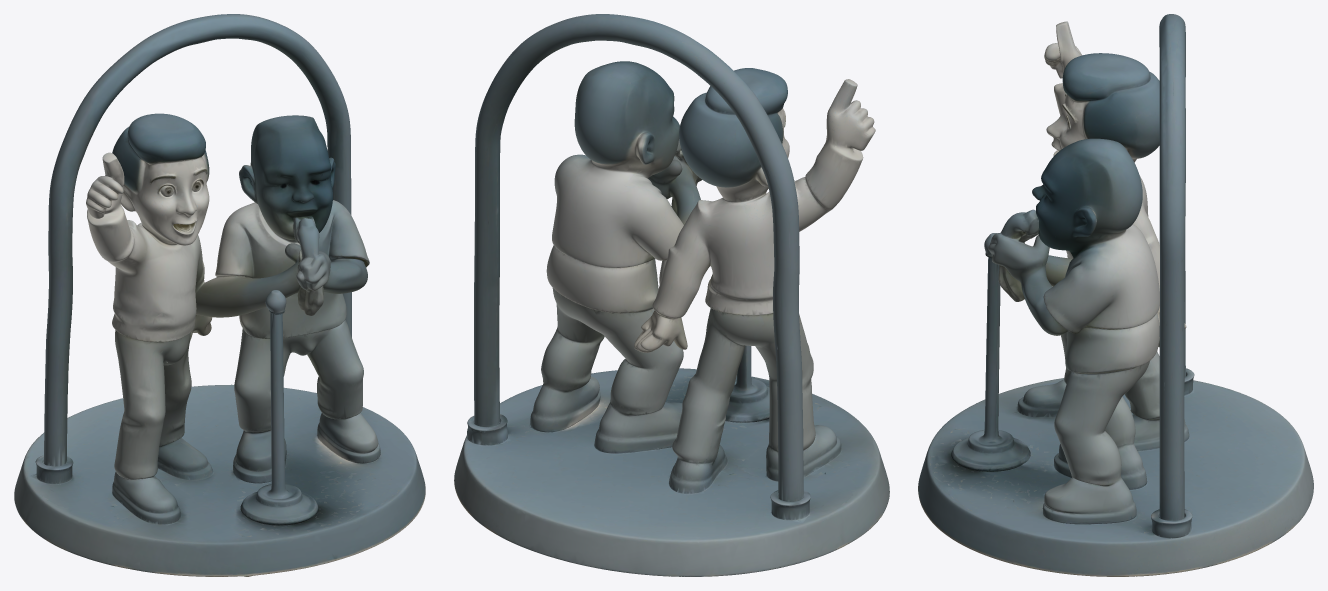
3 renders of one model, left to right at view 1: azimuth 30°, elevation 25°; view 2: azimuth 150°, elevation 25°; view 3: azimuth 270°, elevation 25°, orthographic. The views are drawn at different scales.
Parts seen in each view (by area): view 1: material; view 2: material; view 3: material.
Part boxes in pixels (x1=…): material: x1=14, y1=14, x2=425, y2=576; material: x1=454, y1=14, x2=889, y2=576; material: x1=918, y1=14, x2=1313, y2=576.
Bounding box in the file's own units: 0.7672 × 0.9287 × 0.7225.
Materials: 1 (1 with a texture image).
